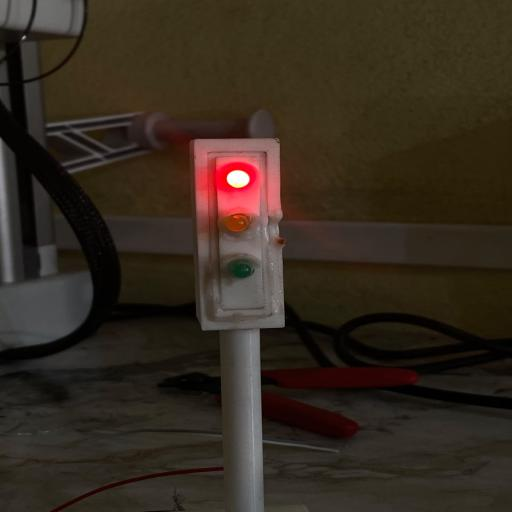Red Light: (227, 170, 250, 188)
